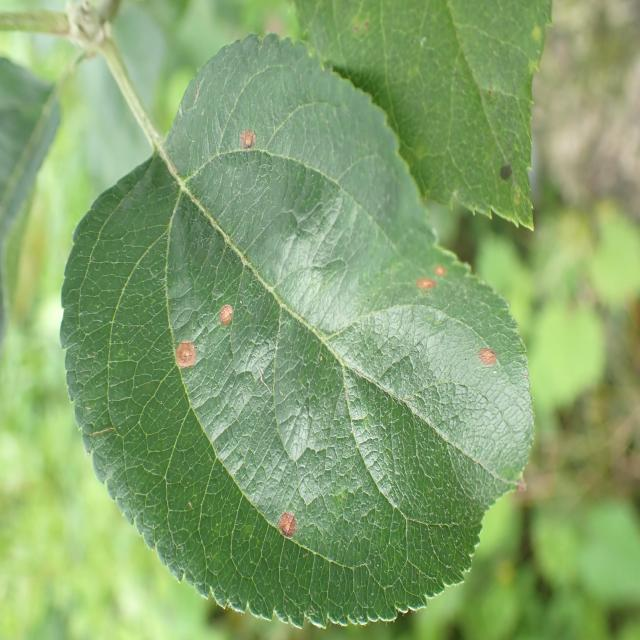frog-eye-leaf-spot: (60, 30, 536, 636)
